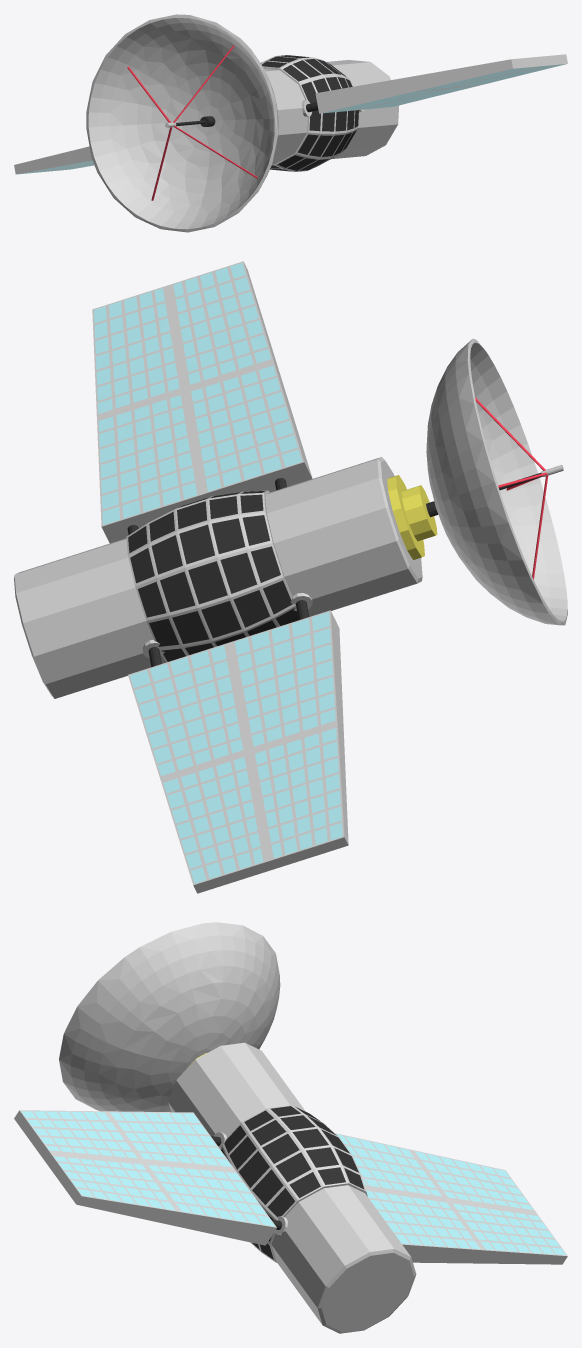
File: satellite-3.glb
3 renders of one model, top to bottom at view 1: azimuth 30°, elevation 25°; view 2: azimuth 150°, elevation 25°; view 3: azimuth 270°, elevation 25°, orthographic. The views are drawn at different scales.
Bounding box in the file's own units: 654 × 436 × 684.
